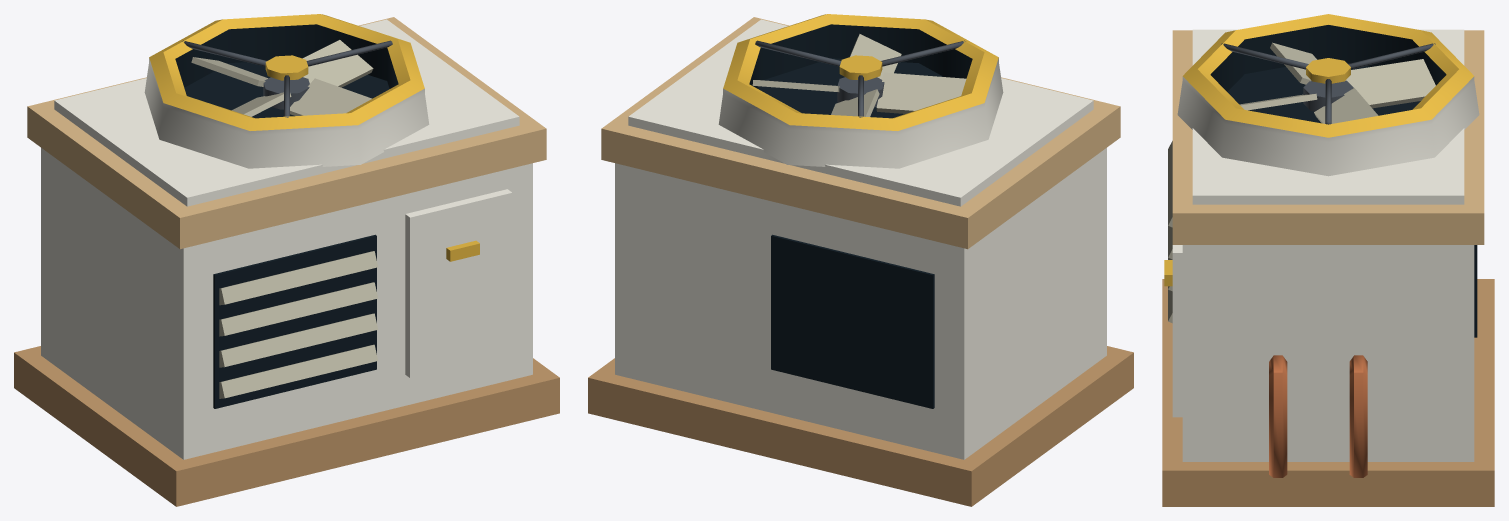
Rendered from ac-unit.lod1.glb.
The picture shows the model from 3 angles, left to right: view 1: azimuth 30°, elevation 25°; view 2: azimuth 150°, elevation 25°; view 3: azimuth 270°, elevation 25°; orthographic projection. The views are drawn at different scales.
Visible parts, largest first — view 1: ac-unit_lod1; view 2: ac-unit_lod1; view 3: ac-unit_lod1.
Part boxes in pixels (<box>): ac-unit_lod1: <box>14,14,559,506</box>; ac-unit_lod1: <box>588,14,1133,506</box>; ac-unit_lod1: <box>1162,14,1494,506</box>.
Bounding box in the file's own units: 0.9356 × 0.754 × 0.66.
